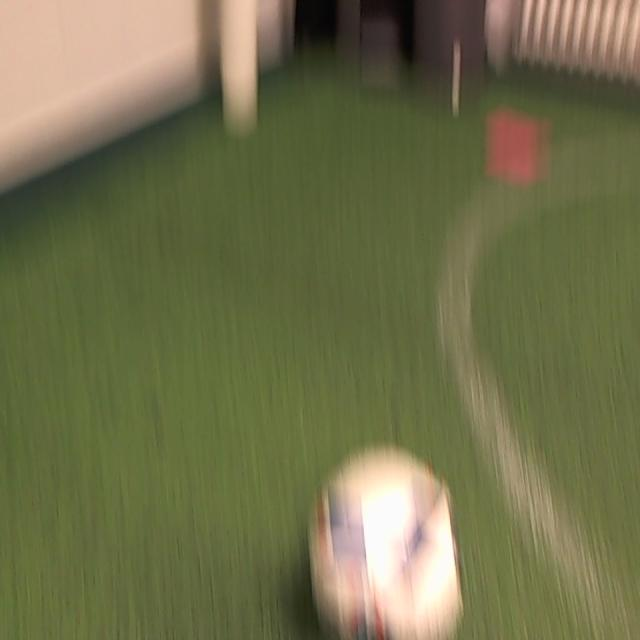ball: (308, 448, 464, 640)
goalpost: (220, 1, 258, 131)
